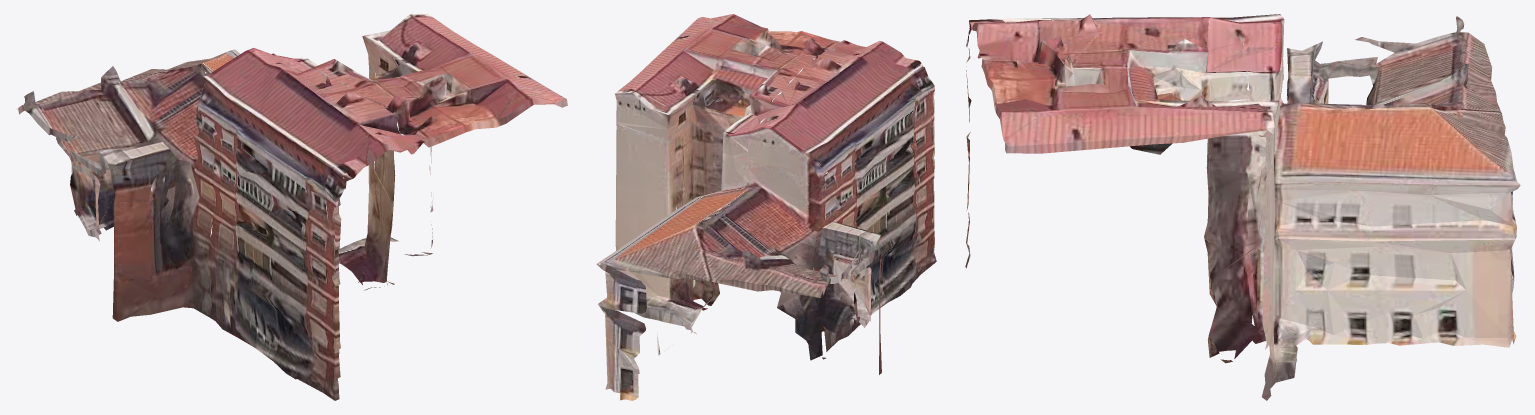
The picture shows the model from 3 angles, left to right: view 1: azimuth 30°, elevation 25°; view 2: azimuth 150°, elevation 25°; view 3: azimuth 270°, elevation 25°; orthographic projection. The views are drawn at different scales.
Visible parts, largest first — view 1: Mesh_0; view 2: Mesh_0; view 3: Mesh_0.
Boxes of the visible parts, box(x1,y1,x2,y2) form: Mesh_0: box(17, 14, 567, 400); Mesh_0: box(596, 14, 936, 400); Mesh_0: box(965, 14, 1520, 400).
Bounding box in the file's own units: 33.27 × 24.49 × 40.3.
2 materials, 2 textured.
